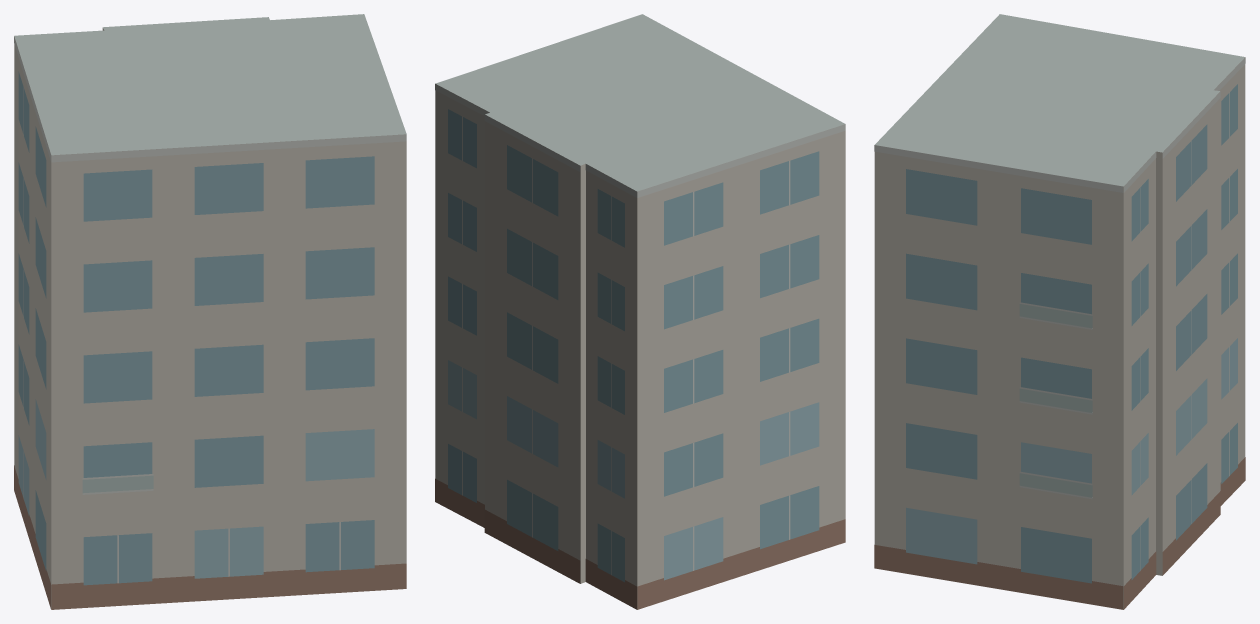
Rendered from survey-upis-32751674.glb.
The picture shows the model from 3 angles, left to right: view 1: azimuth 30°, elevation 25°; view 2: azimuth 150°, elevation 25°; view 3: azimuth 270°, elevation 25°; orthographic projection. The views are drawn at different scales.
Visible parts, largest first — view 1: survey-upis-32751674.tmp; view 2: survey-upis-32751674.tmp; view 3: survey-upis-32751674.tmp.
Part boxes in pixels (x1=…): survey-upis-32751674.tmp: x1=14, y1=14, x2=406, y2=609; survey-upis-32751674.tmp: x1=435, y1=14, x2=845, y2=609; survey-upis-32751674.tmp: x1=874, y1=14, x2=1245, y2=609.
Size of the model in its own units: 13.64 by 15.6 by 12.4.
